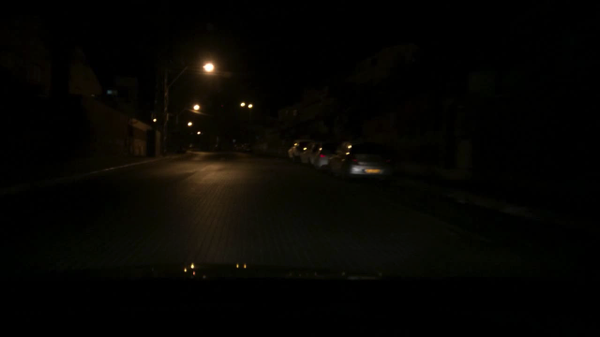car: (327, 140, 394, 183), (307, 143, 340, 170), (295, 141, 325, 165), (286, 138, 313, 162), (232, 143, 245, 151)
